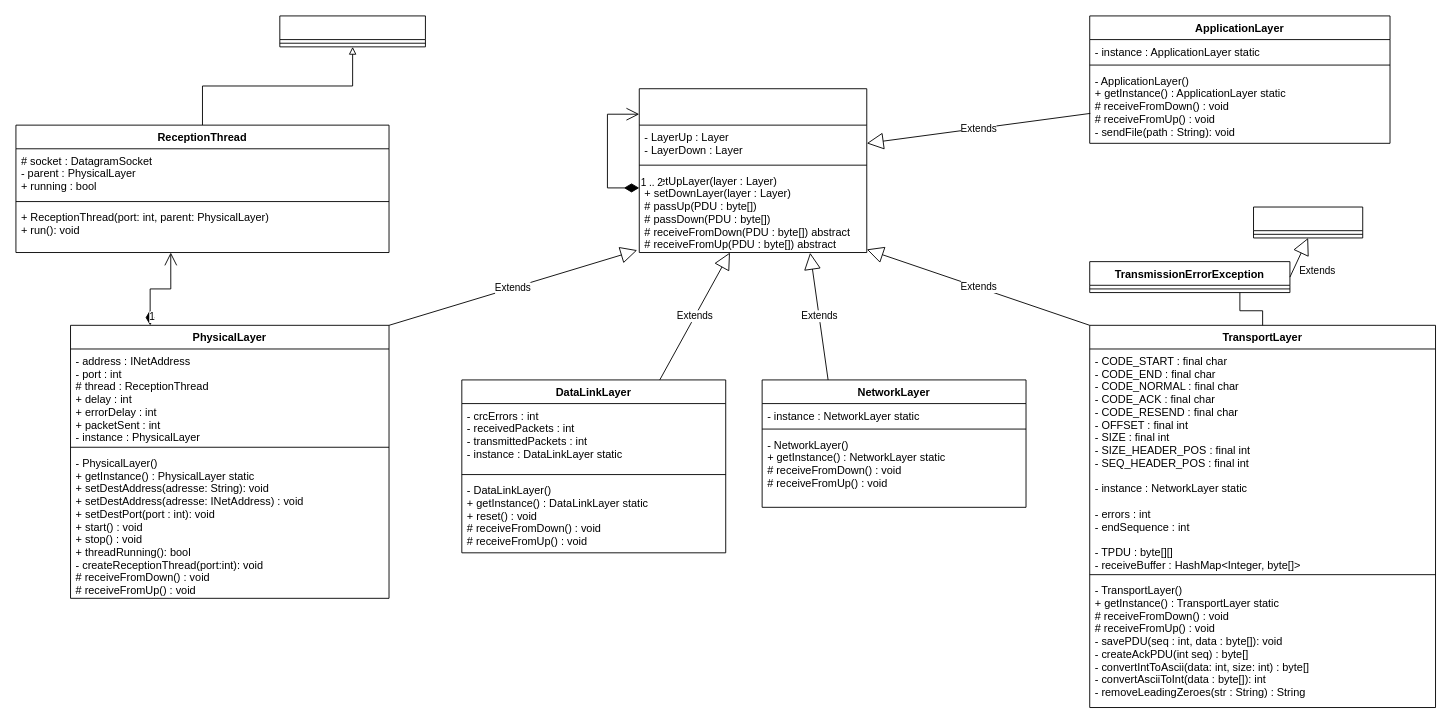
Some shapes in this 1451 by 726 pixel diagram are drawn without their labels. Here are the shapes that lost their labels. From the top down, the box of each, then its label:
(279, 15, 425, 47): Thread
(638, 88, 867, 253): Abstract Layer
(1253, 206, 1363, 238): Exception
